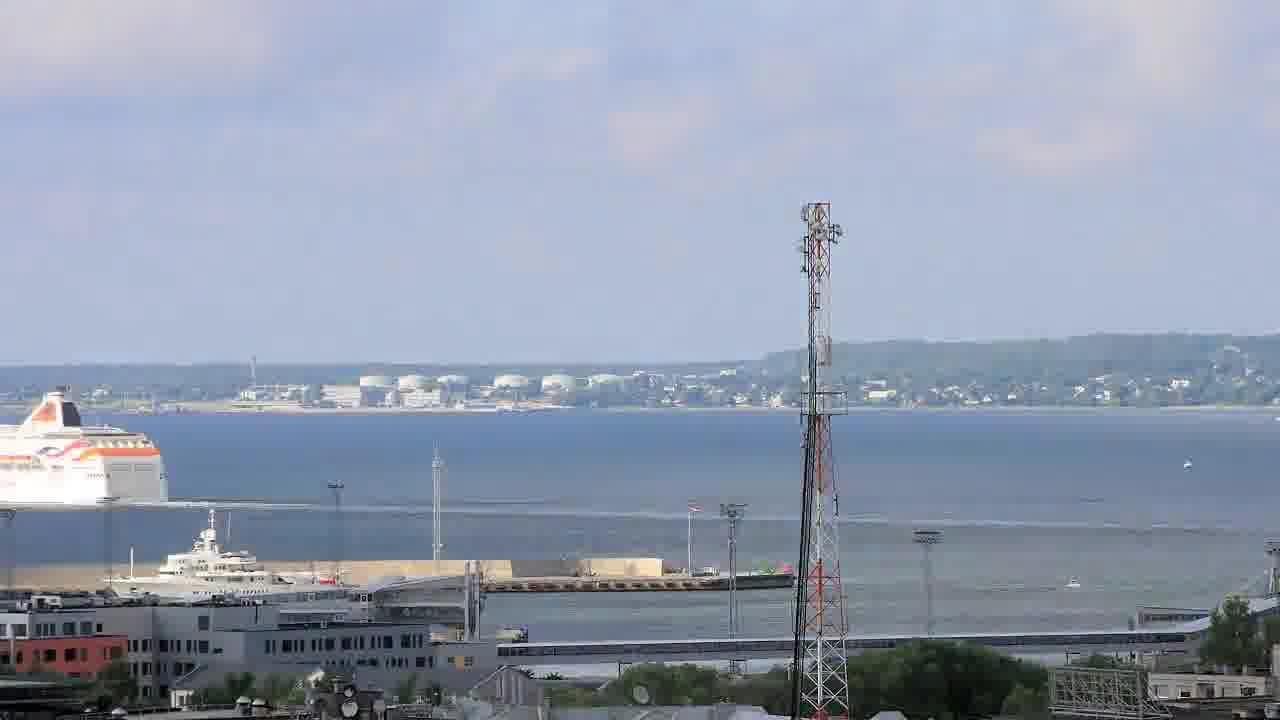type-3: (0, 374, 251, 517), (96, 508, 381, 605)
type-4: (1036, 554, 1090, 616)
